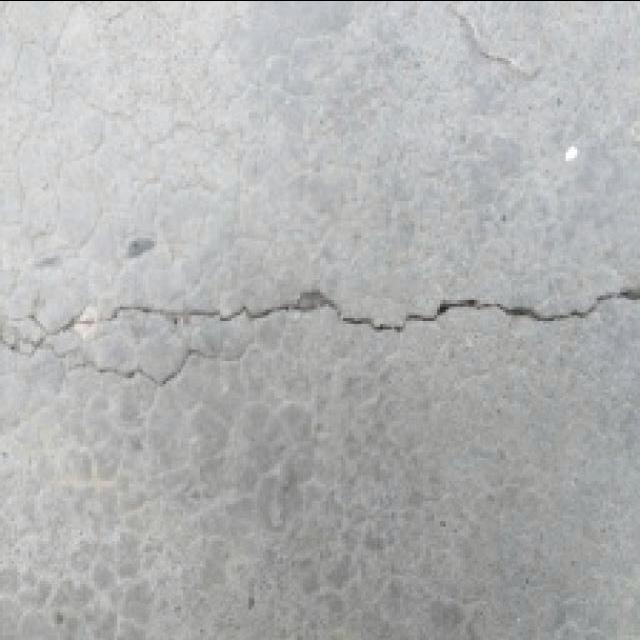SurfaceCrack: (10, 268, 640, 392)
